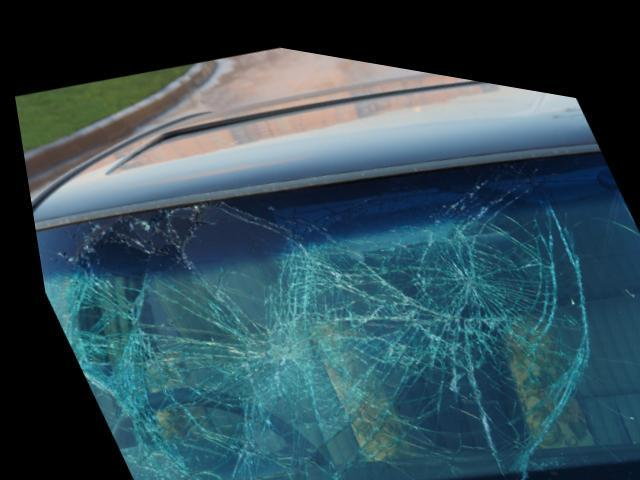glass shatter: (28, 131, 640, 480)
